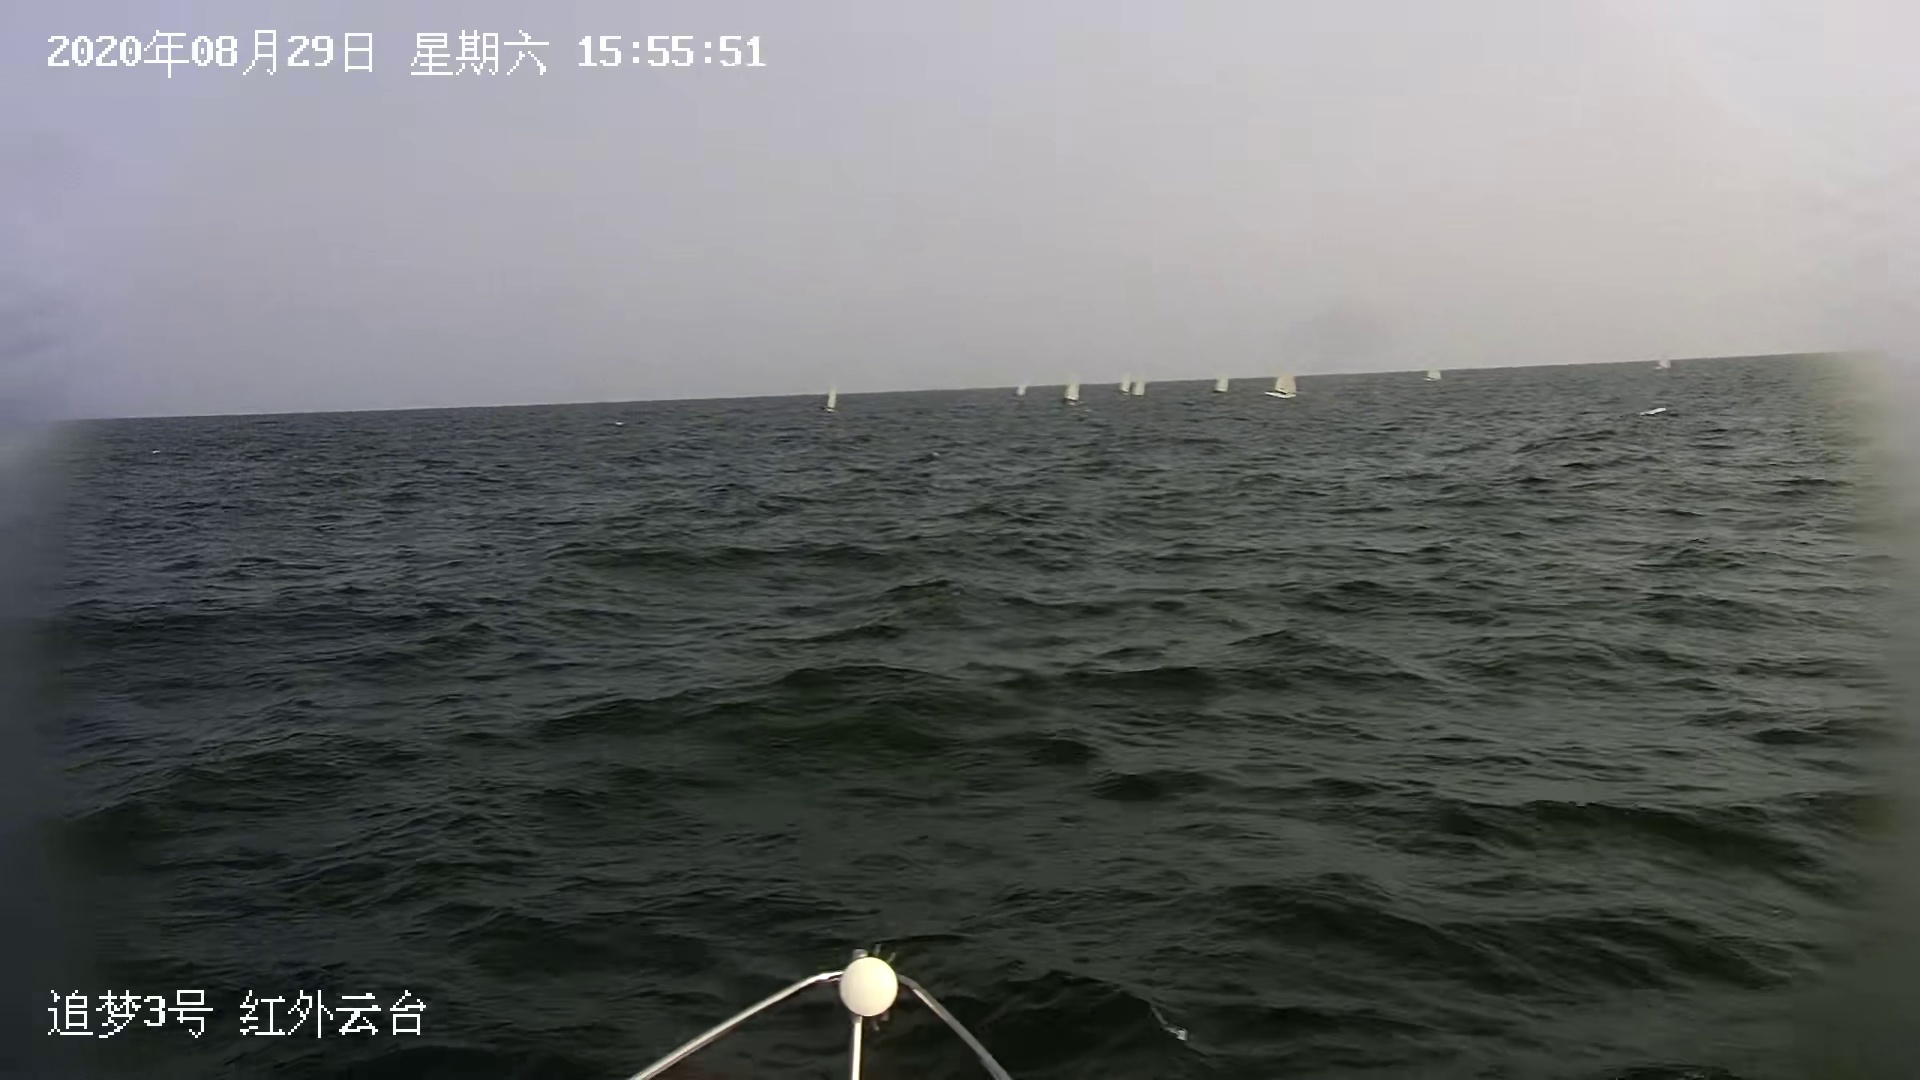barrier: (1269, 364, 1296, 400), (1064, 376, 1081, 402), (1427, 357, 1443, 382), (1213, 369, 1228, 393), (825, 385, 837, 411), (1131, 373, 1145, 396), (1014, 377, 1029, 397), (1120, 368, 1131, 392), (1660, 349, 1672, 371)
